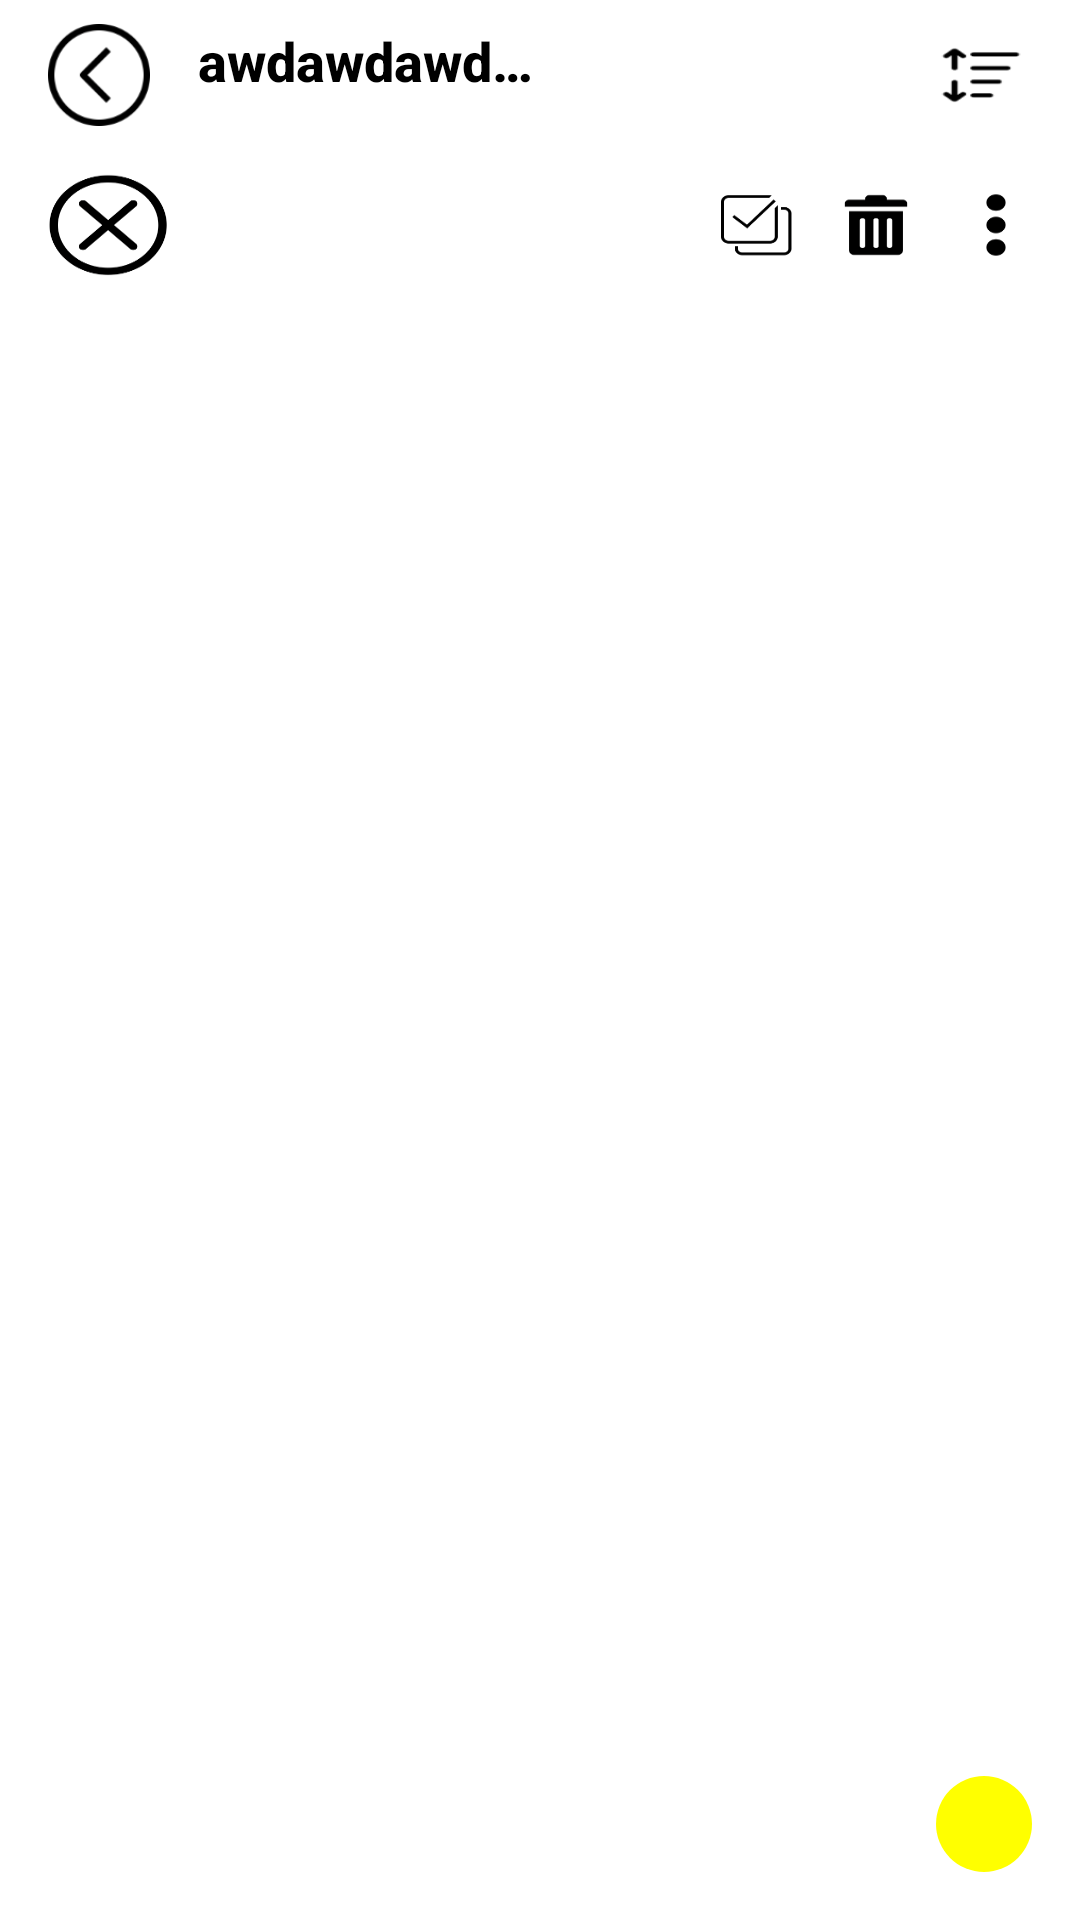

Icons on this 1080px×1920px Android screen, each with its box as (x1, y1, x2, y2):
back: (48, 24, 150, 126)
cancel: (49, 175, 167, 275)
check all: (721, 195, 792, 256)
delete: (844, 195, 908, 256)
vertical dots: (986, 194, 1006, 256)
